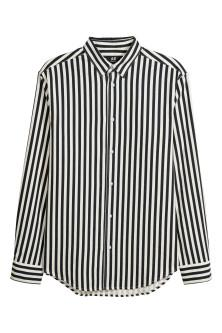teeshirt: (9, 32, 213, 306)
